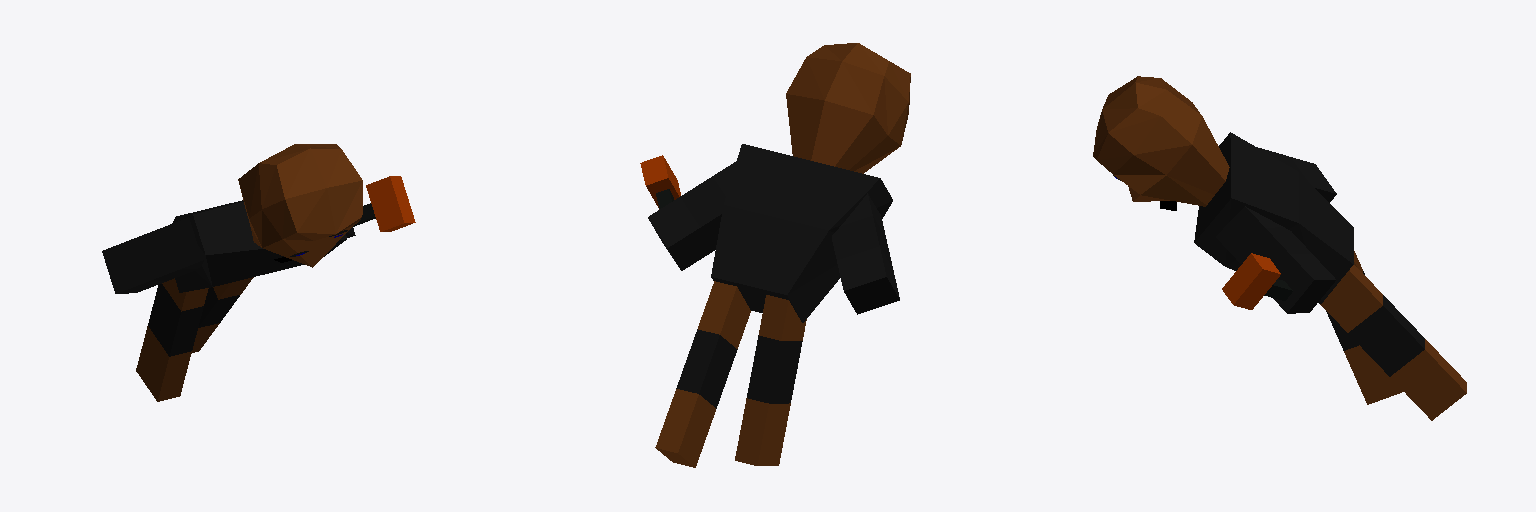
The model's file is servant2d.obj.
3 renders of one model, left to right at view 1: azimuth 30°, elevation 25°; view 2: azimuth 150°, elevation 25°; view 3: azimuth 270°, elevation 25°, orthographic.
Parts seen in each view (by area): view 1: Cube, Cube.001, Cube.004, Cube.003, Cube.008, Cube.005; view 2: Cube.001, Cube, Cube.005, Cube.004, Cube.003, Cube.002, Cube.008; view 3: Cube, Cube.001, Cube.005, Cube.002, Cube.004, Cube.008, Cube.003.
Part boxes in pixels (bbox=[...]): Cube: bbox=[238, 144, 362, 267]; Cube.001: bbox=[172, 200, 346, 292]; Cube.004: bbox=[136, 278, 208, 401]; Cube.003: bbox=[102, 217, 204, 293]; Cube.008: bbox=[366, 176, 415, 231]; Cube.005: bbox=[192, 277, 253, 352]; Cube.001: bbox=[711, 144, 892, 322]; Cube: bbox=[786, 43, 910, 173]; Cube.005: bbox=[655, 281, 750, 467]; Cube.004: bbox=[735, 295, 806, 465]; Cube.003: bbox=[832, 193, 899, 314]; Cube.002: bbox=[648, 161, 736, 270]; Cube.008: bbox=[640, 155, 680, 209]; Cube: bbox=[1093, 76, 1229, 206]; Cube.001: bbox=[1194, 132, 1353, 303]; Cube.005: bbox=[1320, 265, 1466, 420]; Cube.002: bbox=[1216, 206, 1335, 313]; Cube.004: bbox=[1326, 251, 1403, 404]; Cube.008: bbox=[1222, 253, 1280, 309]; Cube.003: bbox=[1257, 147, 1336, 202].
Size of the model in its own units: 4.16 by 4.8 by 4.94.